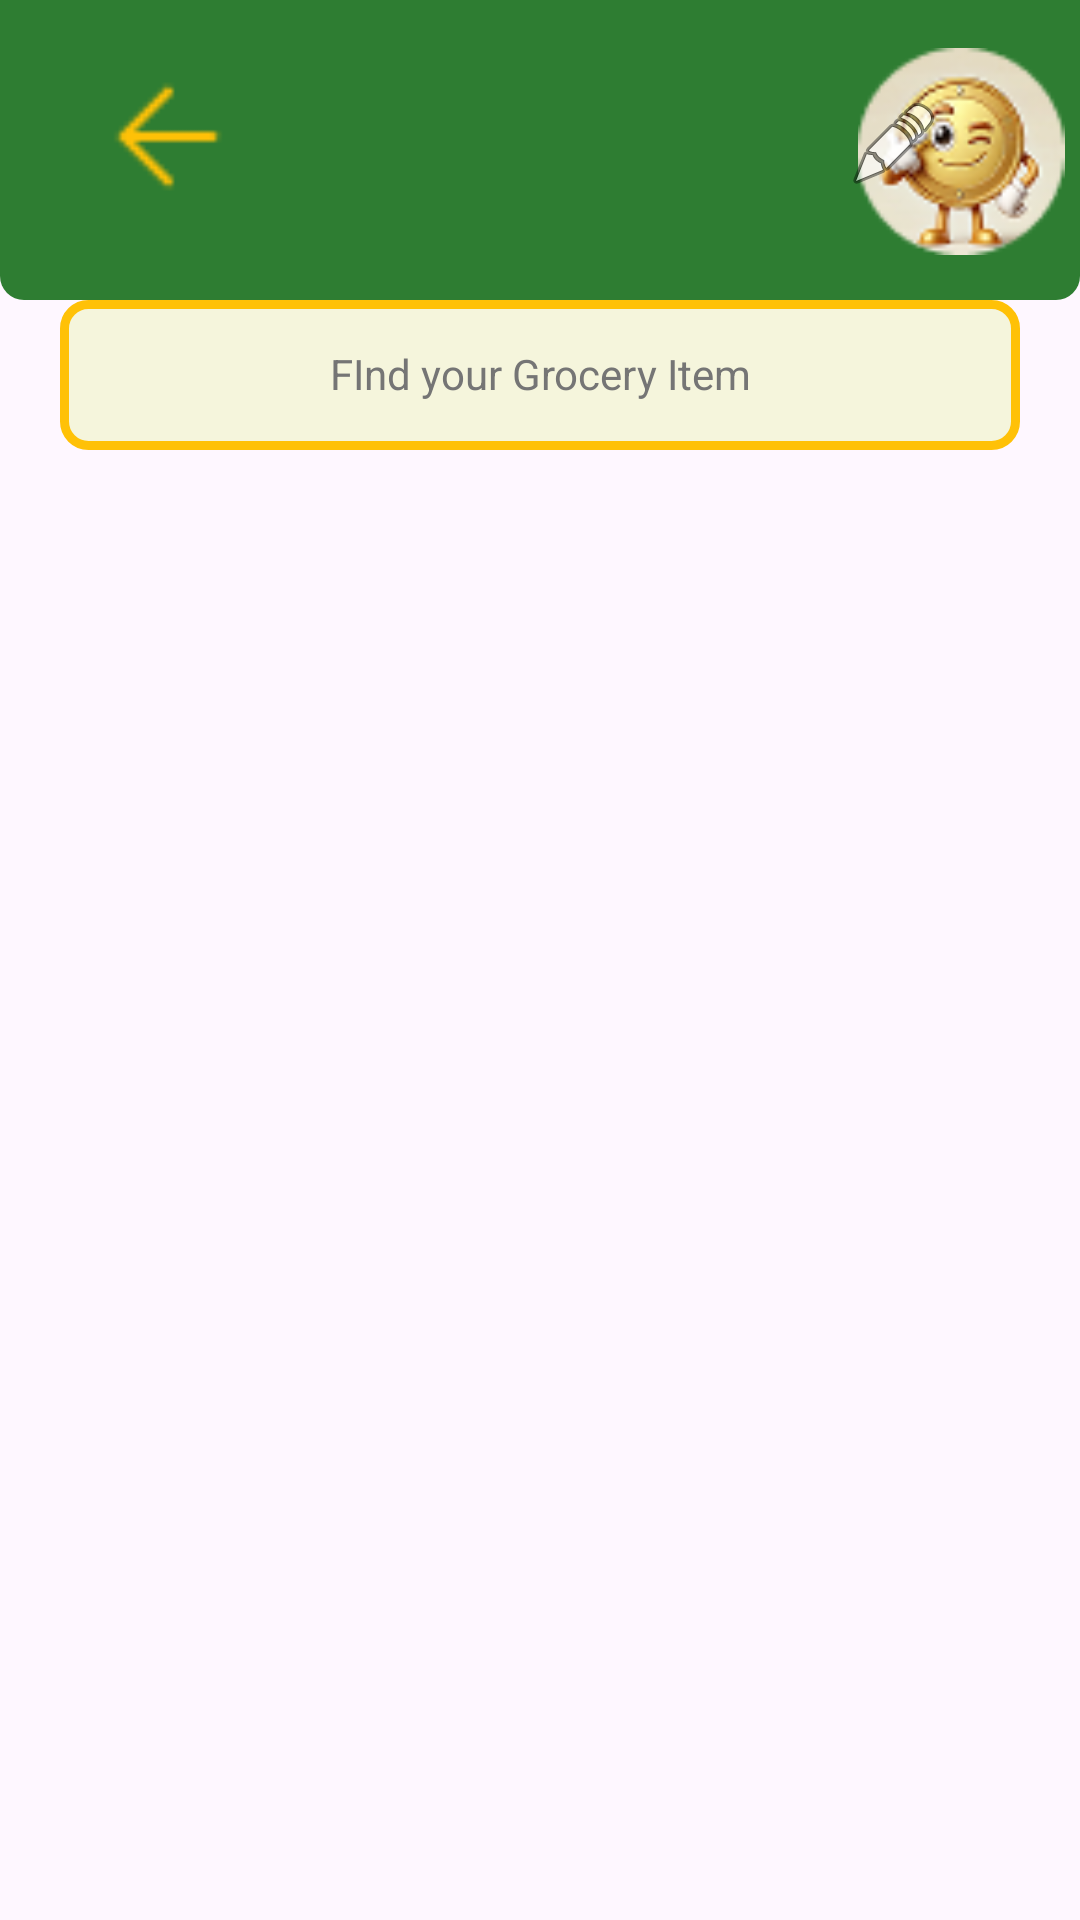

Icon click points for this 1080 x 1920 phone screenshot, format point (x, y):
arrow left: point (168, 136)
